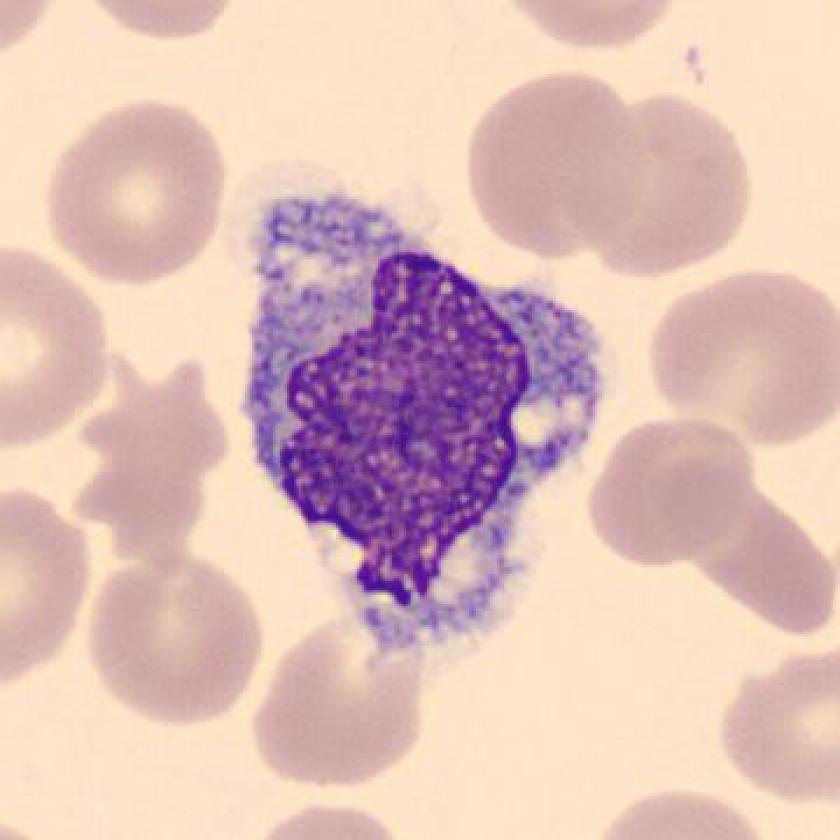monocyte: (220, 138, 617, 677)
